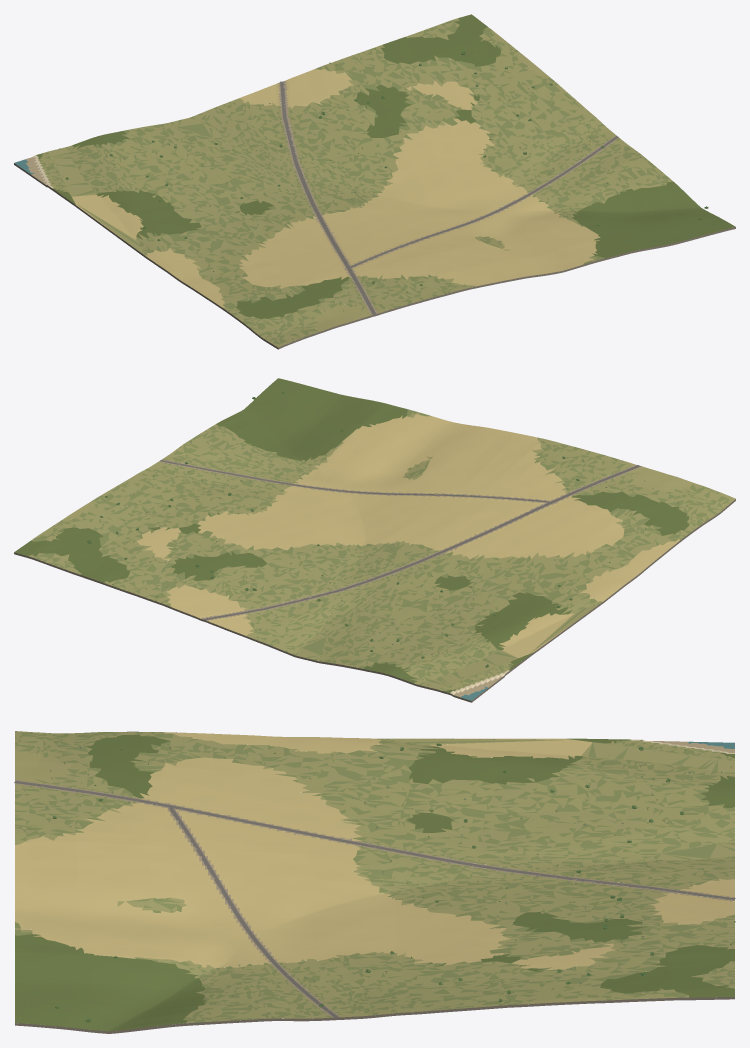
Rendered from parca_-3_-3-yakin.glb.
3 views of the same model, one above another, from view 1: azimuth 30°, elevation 25°; view 2: azimuth 150°, elevation 25°; view 3: azimuth 270°, elevation 25° (orthographic). The views are drawn at different scales.
Visible parts, largest first — view 1: parca_-3_-3_arazi, parca_-3_-3_yollar, parca_-3_-3_bitkiler; view 2: parca_-3_-3_arazi, parca_-3_-3_yollar, parca_-3_-3_bitkiler; view 3: parca_-3_-3_arazi, parca_-3_-3_yollar, parca_-3_-3_bitkiler.
Boxes of the visible parts, x1=… form: parca_-3_-3_arazi: x1=14, y1=14, x2=735, y2=349; parca_-3_-3_yollar: x1=280, y1=81, x2=618, y2=314; parca_-3_-3_bitkiler: x1=49, y1=27, x2=708, y2=339; parca_-3_-3_arazi: x1=14, y1=378, x2=735, y2=702; parca_-3_-3_yollar: x1=160, y1=460, x2=640, y2=620; parca_-3_-3_bitkiler: x1=50, y1=389, x2=717, y2=685; parca_-3_-3_arazi: x1=15, y1=731, x2=734, y2=1033; parca_-3_-3_yollar: x1=14, y1=781, x2=735, y2=1017; parca_-3_-3_bitkiler: x1=20, y1=735, x2=735, y2=1022.
Bounding box in the file's own units: 1001 × 81.06 × 1003.
